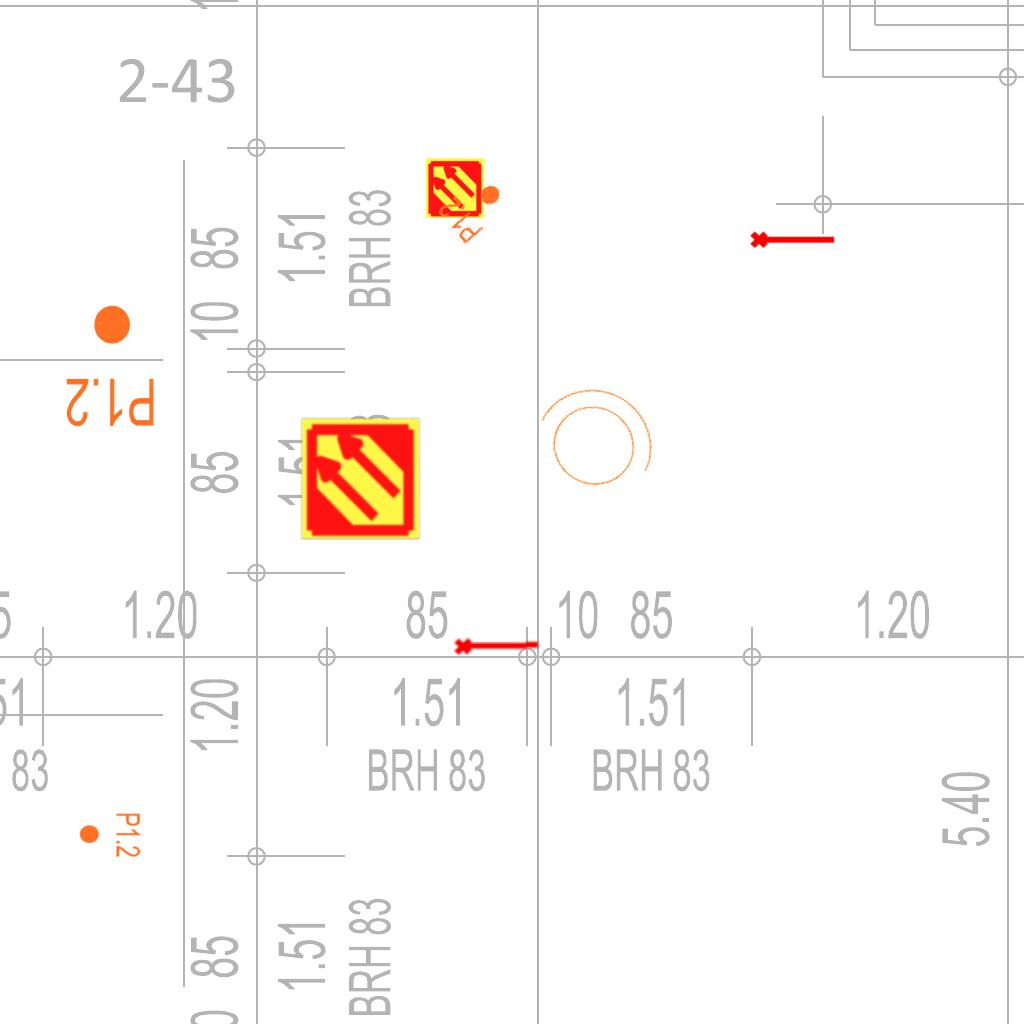ASR_Ansaugoeffnung: (452, 632, 542, 657), (749, 227, 837, 250)
ASR_Ansaugrauchmelder: (298, 416, 423, 541), (424, 157, 486, 219)
Downlight_LED_Einbauleuchten_Flur: (64, 302, 157, 430), (434, 169, 514, 247), (78, 812, 142, 858)
Scheinwerfer_fuer_Alarmbeleuchtung: (509, 360, 677, 520)
